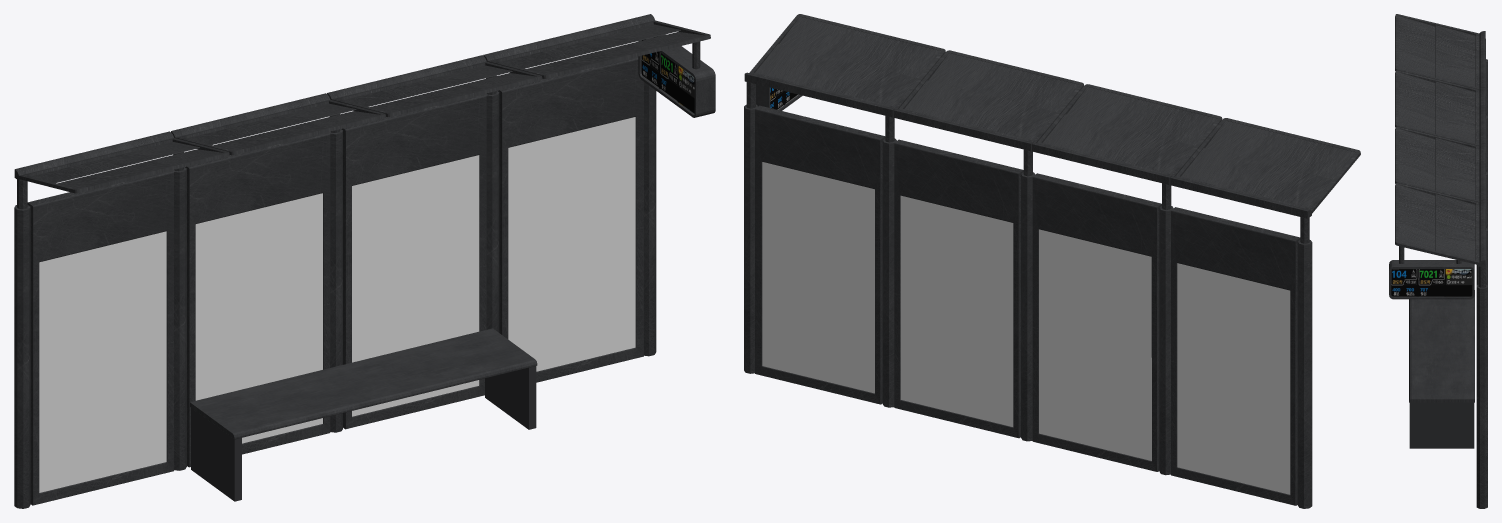
Rendered from busStop.fbx.
3 views of the same model, side by side, from view 1: azimuth 30°, elevation 25°; view 2: azimuth 150°, elevation 25°; view 3: azimuth 270°, elevation 25° (orthographic). The views are drawn at different scales.
Parts seen in each view (by area): view 1: BusStop; view 2: BusStop; view 3: BusStop.
Part boxes in pixels (x1,y1,x2,y2): BusStop: (14,14,715,508); BusStop: (744,14,1360,508); BusStop: (1389,14,1487,508).
Size of the model in its own units: 955 by 514 by 173.
